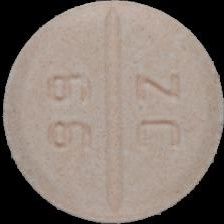0615-7557: (0, 0, 224, 224)
